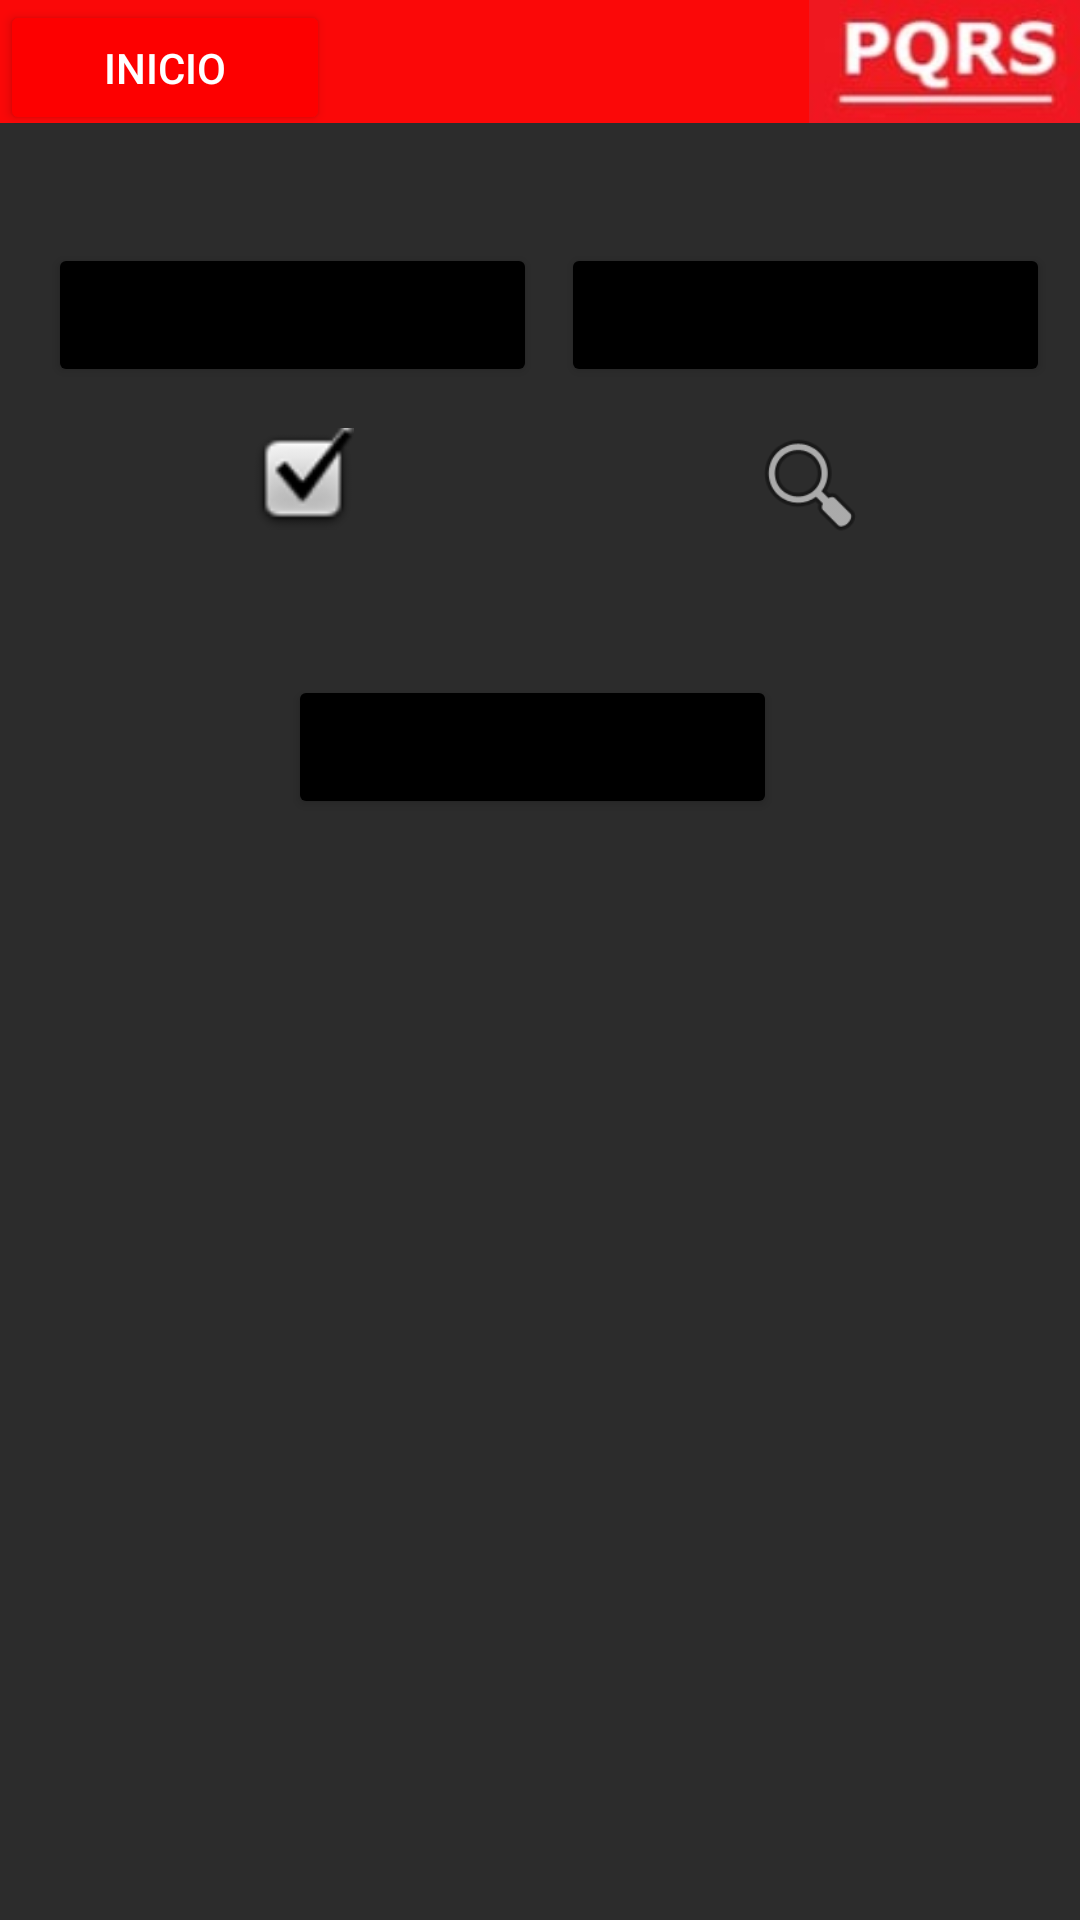

Point at icon controls on the screen. Image size 1080x1920, points as [x,y].
search: [810,485]
